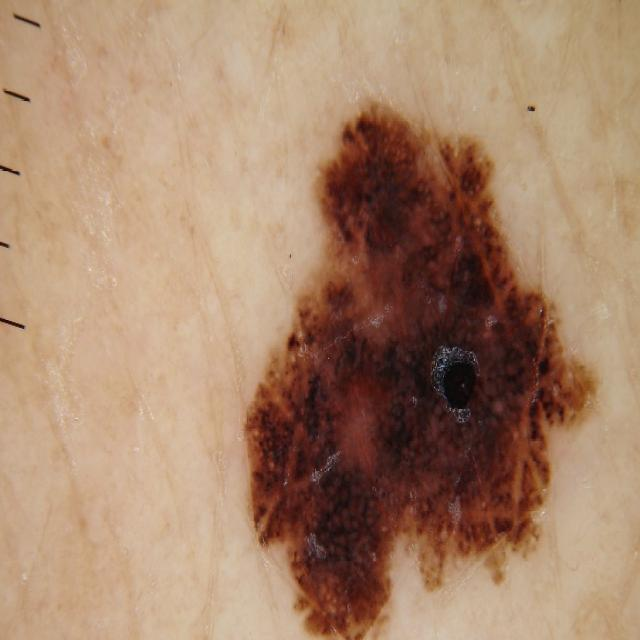Melanoma: (200, 58, 603, 640)
